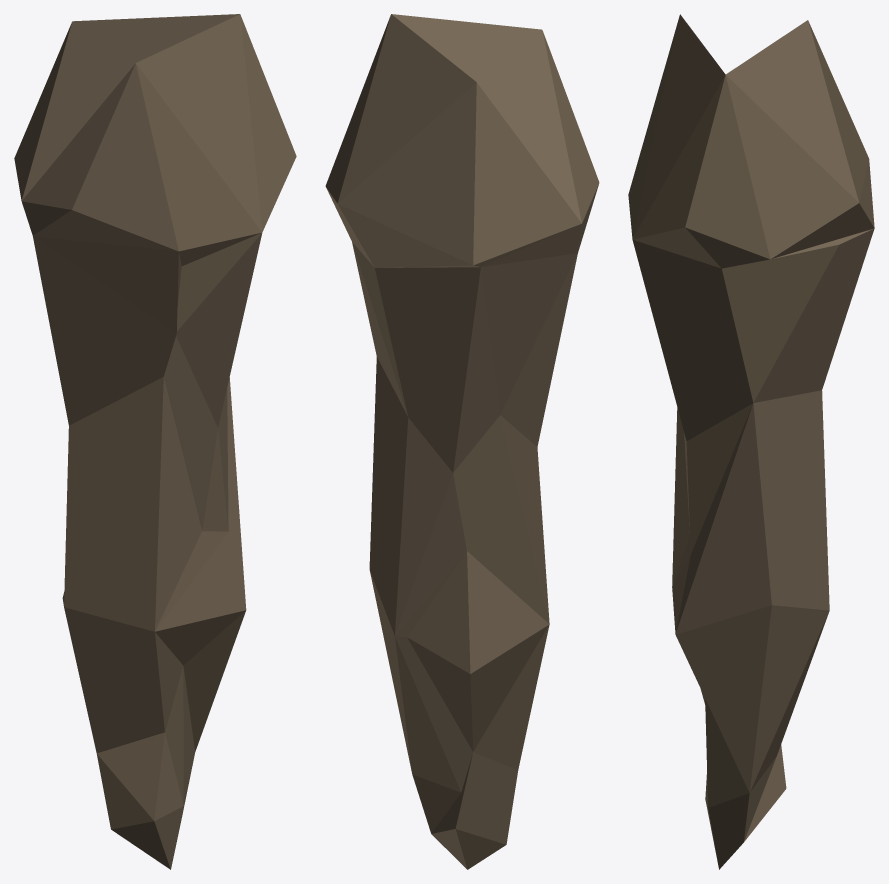
The model's file is StalaciteOnlyTwo.fbx.
The picture shows the model from 3 angles, left to right: view 1: azimuth 30°, elevation 25°; view 2: azimuth 150°, elevation 25°; view 3: azimuth 270°, elevation 25°; orthographic projection.
Parts seen in each view (by area): view 1: Stalactite; view 2: Stalactite; view 3: Stalactite.
Boxes of the visible parts, x1,y1,x2,y2 form: Stalactite: [14, 14, 296, 869]; Stalactite: [325, 14, 599, 869]; Stalactite: [628, 14, 874, 869].
Bounding box in the file's own units: 133 × 431 × 116.
